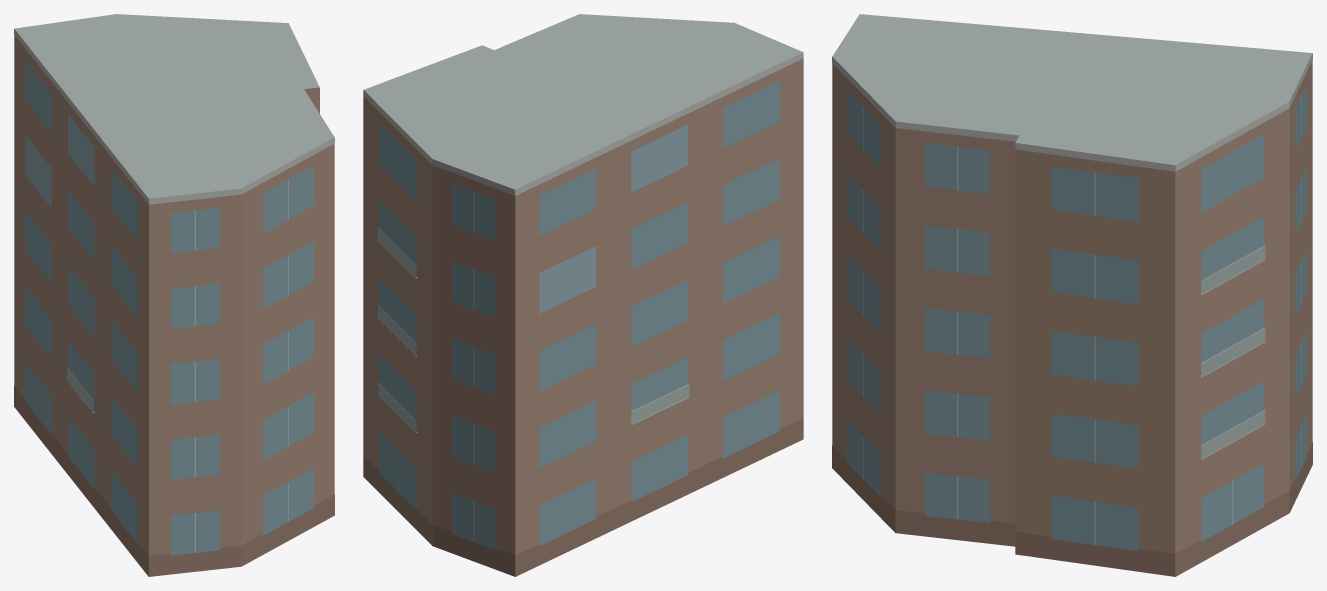
Rendered from survey-upis-32976422.glb.
The picture shows the model from 3 angles, left to right: view 1: azimuth 30°, elevation 25°; view 2: azimuth 150°, elevation 25°; view 3: azimuth 270°, elevation 25°; orthographic projection. The views are drawn at different scales.
Visible parts, largest first — view 1: survey-upis-32976422.tmp; view 2: survey-upis-32976422.tmp; view 3: survey-upis-32976422.tmp.
Boxes of the visible parts, x1,y1,x2,y2 form: survey-upis-32976422.tmp: [14, 14, 334, 576]; survey-upis-32976422.tmp: [363, 14, 803, 576]; survey-upis-32976422.tmp: [832, 14, 1312, 576].
Size of the model in its own units: 12.07 by 15.3 by 16.2.
